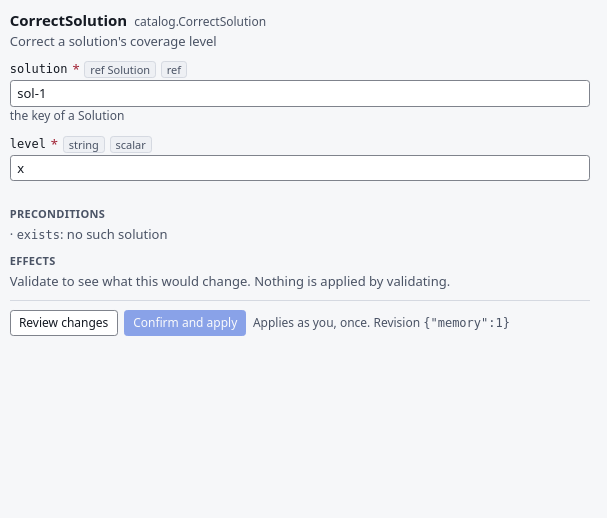
Test: Actions (US-062) › US-062-AC3: effects of every kind are shown, and a delete warns that it cannot be undone
Click the button with test id "validate".
click(64, 323)  # box x1=10 y1=310 x2=118 y2=336
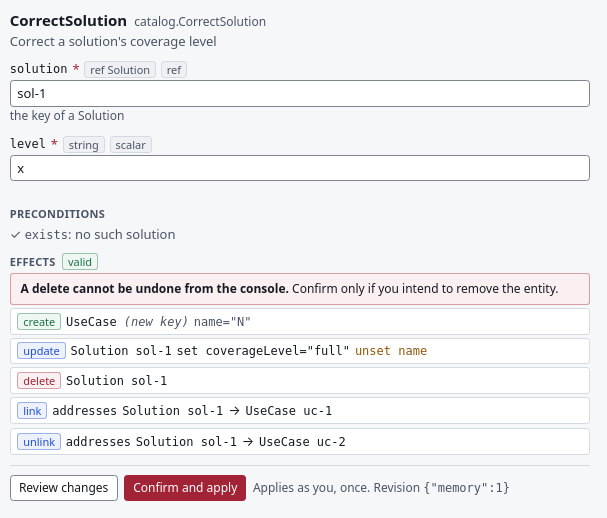
Now the number of list items with test id "effect" is 5, box x1=10 y1=308 x2=590 y2=335; x1=10 y1=338 x2=590 y2=364; x1=10 y1=367 x2=590 y2=394; x1=10 y1=397 x2=590 y2=424; x1=10 y1=428 x2=590 y2=455
Now the element with test id "effects" shows "(new key)", box x1=124 y1=315 x2=189 y2=329
Now the element with test id "effects" shows "unset name", box x1=10 y1=273 x2=590 y2=455
